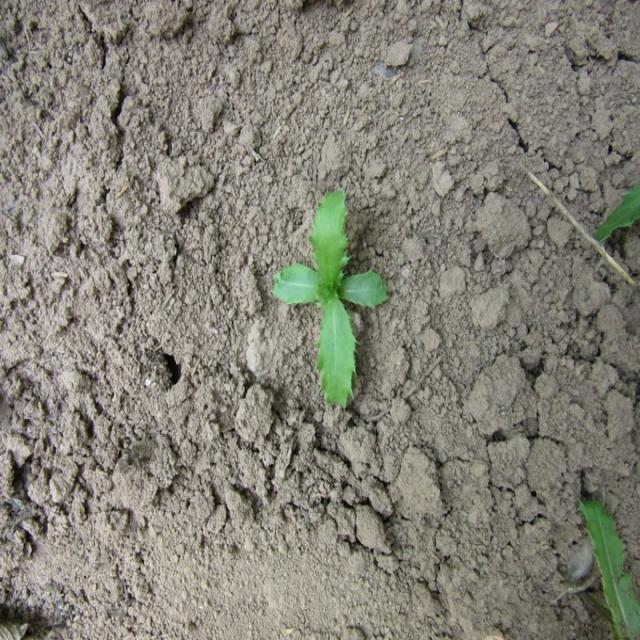cs: (267, 182, 391, 414)
